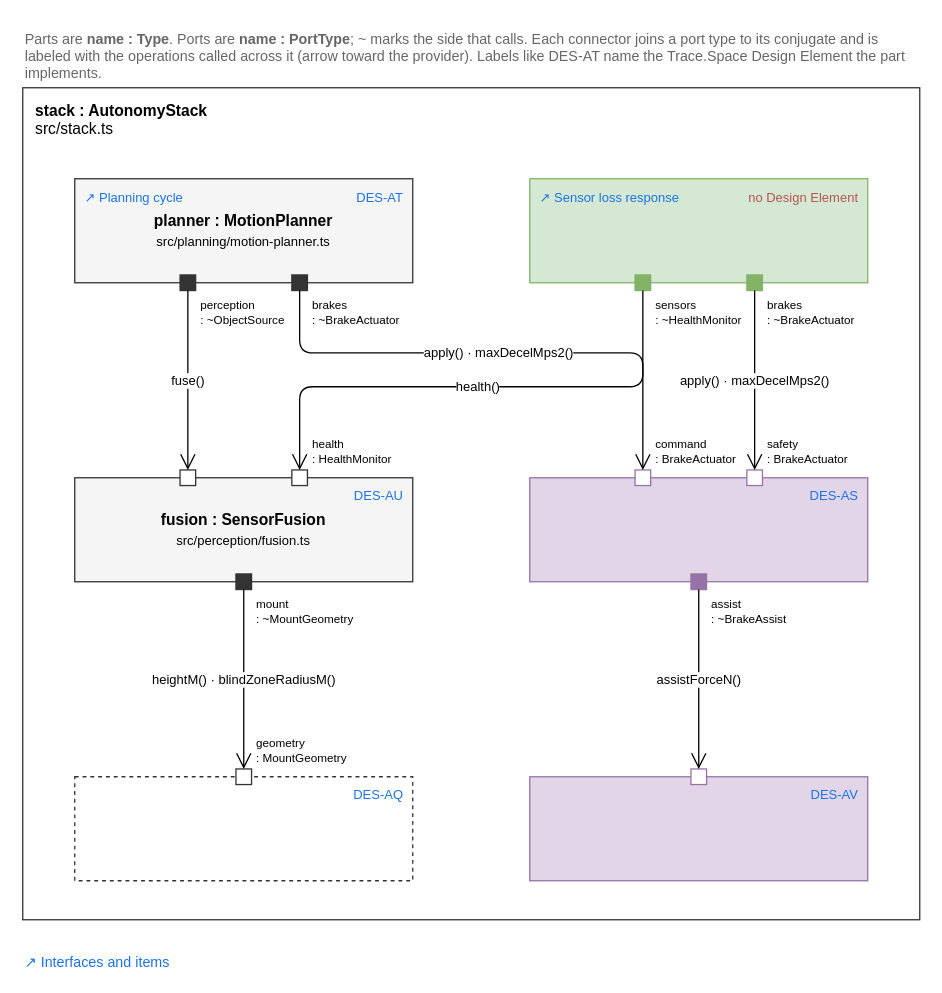
Some shapes in this 942 by 993 pixel diagram are drawn without their labels. Each missing label, with the box of its shape:
assist : BrakeAssist: (690, 768, 707, 785)
booster : CargoBrakeBooster van only: (528, 775, 868, 881)
brakes : BrakeController src/safety/brake-controller.ts: (528, 476, 868, 582)
mount : LidarMount src/perception/lidar-mount.ts: (73, 775, 413, 881)
objects : ObjectSource: (179, 469, 196, 486)
supervisor : SafetySupervisor src/safety/supervisor.ts: (528, 177, 868, 283)
